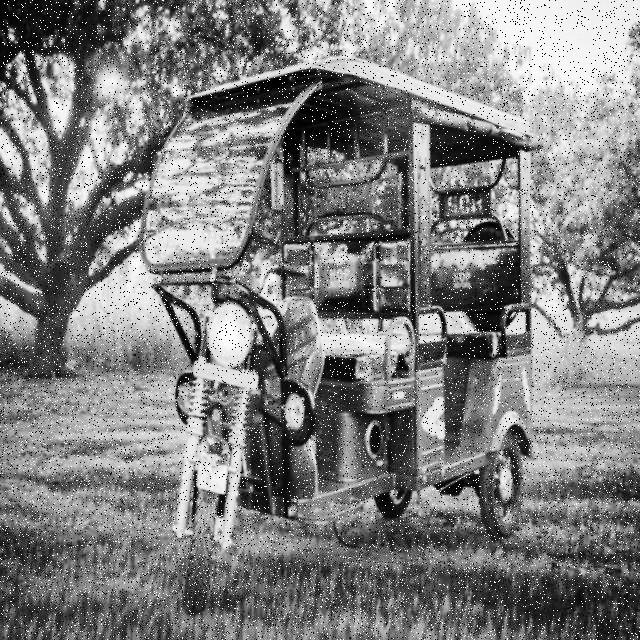Toto: (146, 34, 547, 612)
